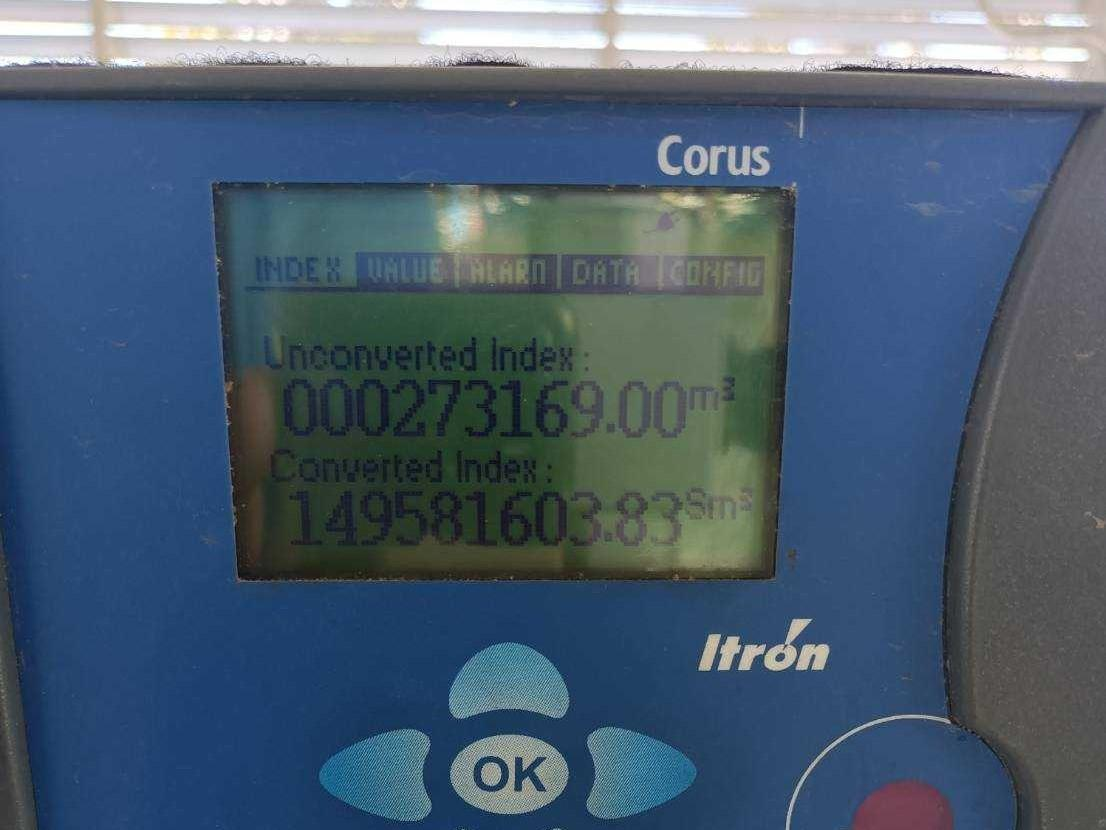digital_screen: (212, 184, 795, 581)
